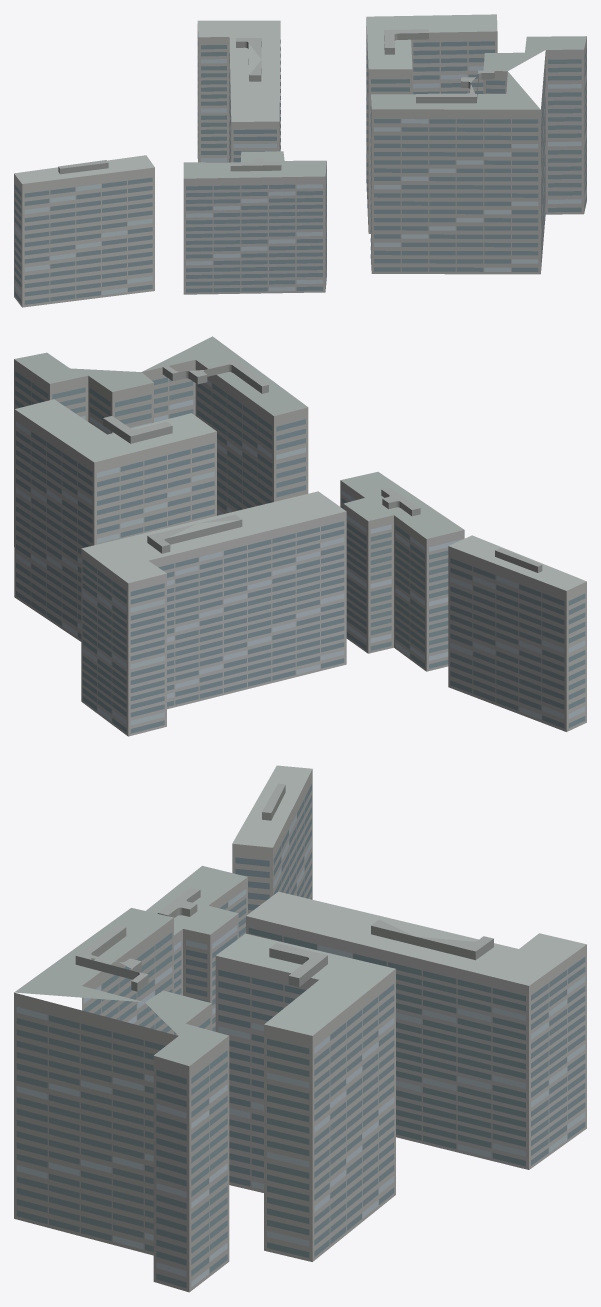
The model's file is apt-a15208202.glb.
The picture shows the model from 3 angles, top to bottom: view 1: azimuth 30°, elevation 25°; view 2: azimuth 150°, elevation 25°; view 3: azimuth 270°, elevation 25°; orthographic projection. The views are drawn at different scales.
Visible parts, largest first — view 1: apt-a15208202; view 2: apt-a15208202; view 3: apt-a15208202.
Boxes of the visible parts, x1,y1,x2,y2 form: apt-a15208202: [14, 14, 586, 307]; apt-a15208202: [14, 336, 586, 736]; apt-a15208202: [14, 765, 586, 1292].
Size of the model in its own units: 207 by 63.4 by 140.
